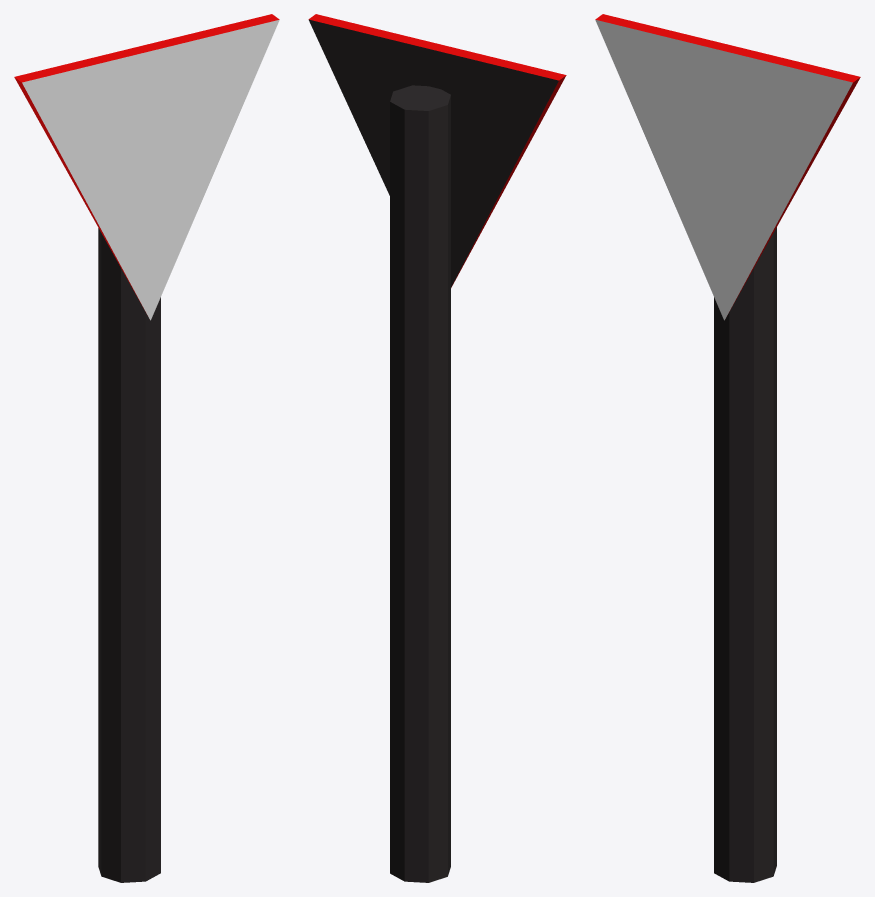
Rendered from placa_preferencia.fbx.
3 views of the same model, side by side, from view 1: azimuth 30°, elevation 25°; view 2: azimuth 150°, elevation 25°; view 3: azimuth 330°, elevation 25° (orthographic). The views are drawn at different scales.
Visible parts, largest first — view 1: placa_preferencia; view 2: placa_preferencia; view 3: placa_preferencia.
Boxes of the visible parts, x1,y1,x2,y2 form: placa_preferencia: [14, 14, 279, 882]; placa_preferencia: [308, 14, 566, 882]; placa_preferencia: [595, 14, 860, 882].
Bounding box in the file's own units: 52.57 × 162 × 13.25.
